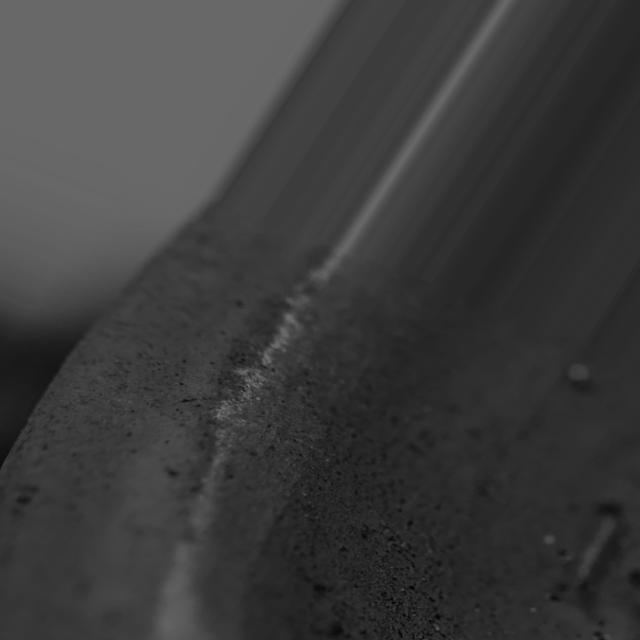larvas: (577, 518, 614, 579)
